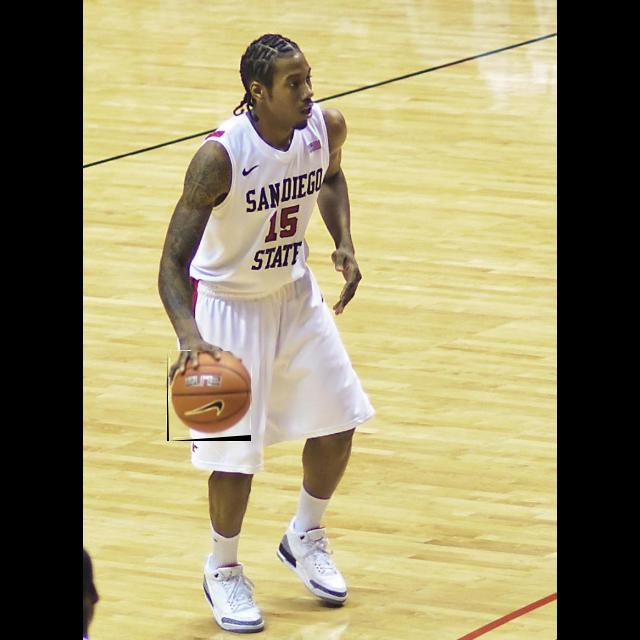Football: (167, 351, 251, 441)
